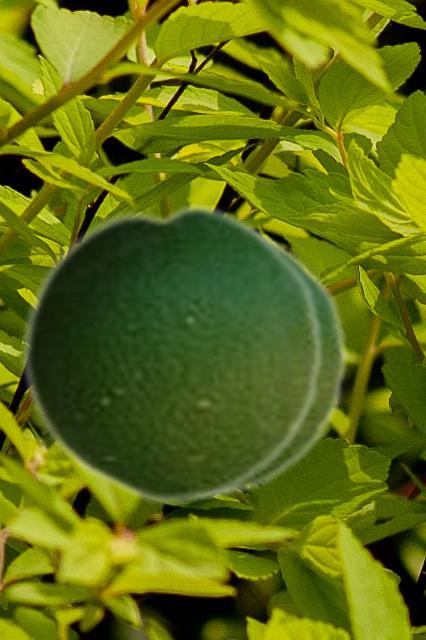dalandan: (20, 199, 324, 507), (218, 221, 348, 499)
